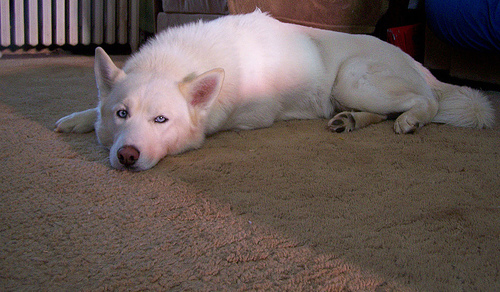dog: (55, 6, 499, 172)
